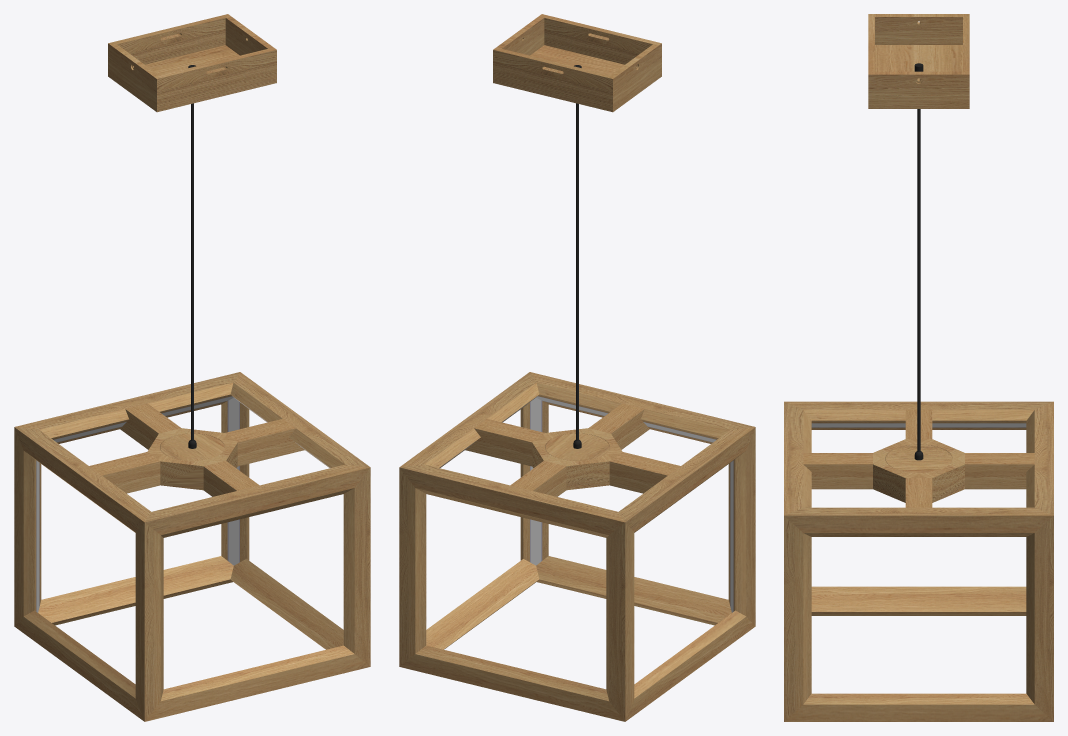
The picture shows the model from 3 angles, left to right: view 1: azimuth 30°, elevation 25°; view 2: azimuth 150°, elevation 25°; view 3: azimuth 270°, elevation 25°; orthographic projection. The views are drawn at different scales.
Parts seen in each view (by area): view 1: Cube_Cube.001, PROTO.002_Cube.030, PROTO.009_Cube.040, PROTO.001_Cube.031, PROTO.003_Cube.031, PROTO.011_Cube.040, PROTO.006_Cube.030, PROTO.008_Cube.031, PROTO.005_Cube.030, PROTO.012_Cube.040, PROTO.007_Cube.040, PROTO.010_Cube.030 (+10 smaller); view 2: Cube_Cube.001, PROTO.006_Cube.030, PROTO.011_Cube.040, PROTO.008_Cube.031, PROTO.004_Cube.031, PROTO.009_Cube.040, PROTO.002_Cube.030, PROTO.001_Cube.031, PROTO.005_Cube.030, PROTO.012_Cube.040, PROTO.007_Cube.040, PROTO.010_Cube.030 (+10 smaller); view 3: Cube_Cube.001, PROTO.010_Cube.030, PROTO.007_Cube.040, PROTO.012_Cube.040, PROTO.005_Cube.030, PROTO.003_Cube.031, PROTO.004_Cube.031, Cube.001_Cube.048, PROTO.006_Cube.030, PROTO.002_Cube.030, Cube.007_Cube.047, Cube.008_Cube.047 (+5 smaller).
Boxes of the visible parts, x1,y1,x2,y2 form: Cube_Cube.001: [108, 14, 276, 112]; PROTO.002_Cube.030: [145, 464, 370, 537]; PROTO.009_Cube.040: [145, 645, 370, 721]; PROTO.001_Cube.031: [135, 522, 163, 721]; PROTO.003_Cube.031: [343, 468, 370, 666]; PROTO.011_Cube.040: [38, 556, 233, 625]; PROTO.006_Cube.030: [15, 372, 239, 443]; PROTO.008_Cube.031: [14, 427, 41, 625]; PROTO.005_Cube.030: [14, 427, 150, 532]; PROTO.012_Cube.040: [14, 610, 144, 721]; PROTO.007_Cube.040: [230, 559, 343, 649]; PROTO.010_Cube.030: [230, 372, 369, 467]; Cube_Cube.001: [493, 14, 661, 112]; PROTO.006_Cube.030: [399, 464, 624, 537]; PROTO.011_Cube.040: [399, 645, 624, 721]; PROTO.008_Cube.031: [606, 522, 634, 721]; PROTO.004_Cube.031: [399, 468, 426, 666]; PROTO.009_Cube.040: [536, 556, 731, 625]; PROTO.002_Cube.030: [530, 372, 754, 443]; PROTO.001_Cube.031: [728, 427, 755, 625]; PROTO.005_Cube.030: [619, 427, 755, 532]; PROTO.012_Cube.040: [625, 610, 755, 721]; PROTO.007_Cube.040: [426, 559, 539, 649]; PROTO.010_Cube.030: [400, 372, 539, 467]; Cube_Cube.001: [868, 14, 969, 108]; PROTO.010_Cube.030: [784, 507, 1053, 536]; PROTO.007_Cube.040: [784, 693, 1053, 721]; PROTO.012_Cube.040: [811, 586, 1026, 615]; PROTO.005_Cube.030: [785, 401, 1052, 429]; PROTO.003_Cube.031: [784, 516, 811, 721]; PROTO.004_Cube.031: [1026, 516, 1053, 721]; Cube.001_Cube.048: [873, 439, 964, 502]; PROTO.006_Cube.030: [1026, 401, 1053, 515]; PROTO.002_Cube.030: [784, 401, 811, 515]; Cube.007_Cube.047: [965, 453, 1034, 489]; Cube.008_Cube.047: [803, 453, 872, 489].
Size of the model in its own units: 32 by 81.23 by 32.
